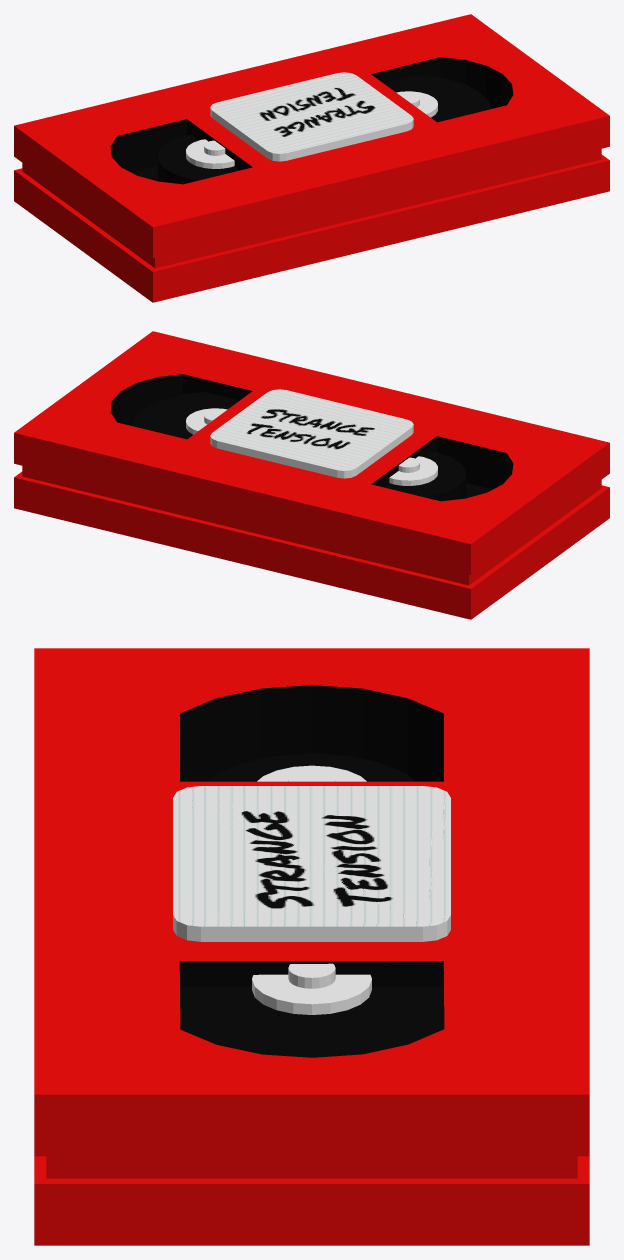
File: Red.fbx
3 renders of one model, top to bottom at view 1: azimuth 30°, elevation 25°; view 2: azimuth 150°, elevation 25°; view 3: azimuth 270°, elevation 25°, orthographic. The views are drawn at different scales.
Visible parts, largest first — view 1: Casete_Rojo, Casete_Rojo_Nombre; view 2: Casete_Rojo, Casete_Rojo_Nombre; view 3: Casete_Rojo, Casete_Rojo_Nombre.
Part boxes in pixels (x1,y1,x2,y2): Casete_Rojo: [14, 14, 609, 302]; Casete_Rojo_Nombre: [210, 72, 413, 161]; Casete_Rojo: [14, 331, 609, 619]; Casete_Rojo_Nombre: [210, 389, 413, 478]; Casete_Rojo: [34, 648, 589, 1245]; Casete_Rojo_Nombre: [173, 786, 450, 941].
Size of the model in its own units: 19 by 3.3 by 10.
5 materials, 1 textured.
